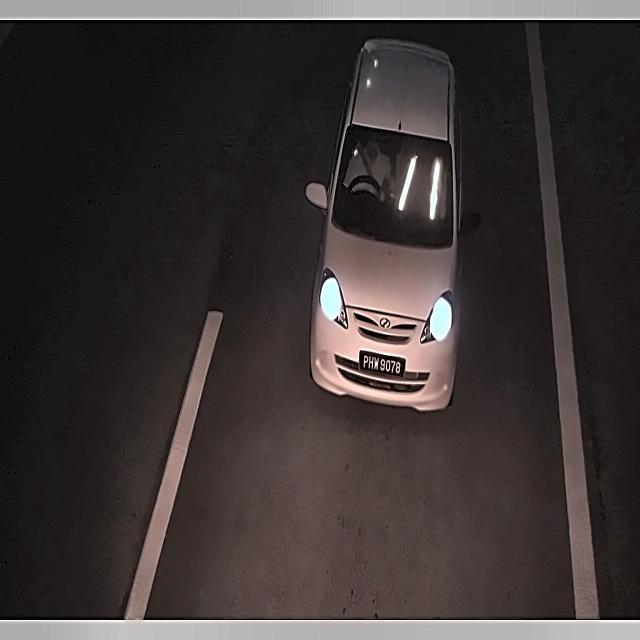car: (357, 345, 407, 384)
